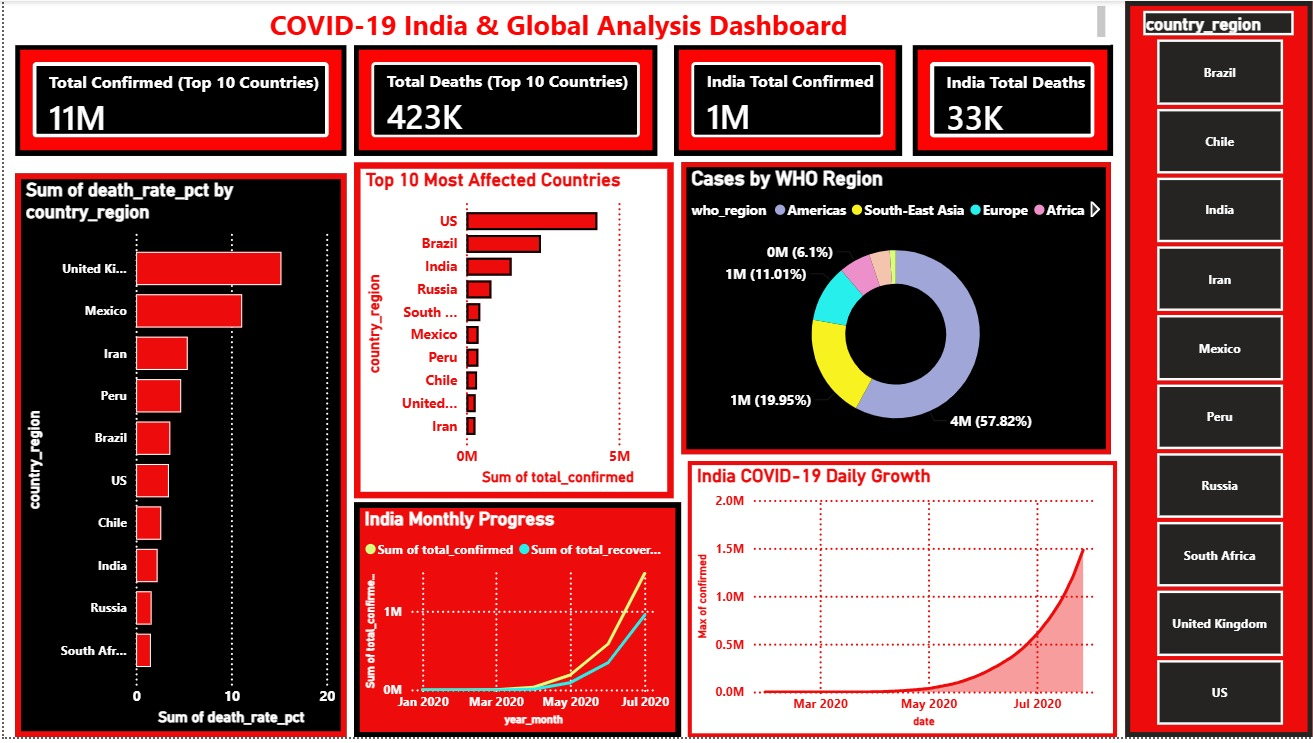

The dashboard page shown, as its layout file describes it:
{"tool":"powerbi","page":{"name":"Page 1","canvas":[1280,720],"ordinal":0},"visuals":[{"type":"cardVisual","fields":{"Data":["Sum(top_countries.total_confirmed)"]},"box":[11.4,42.9,324.3,108.6],"z":0},{"type":"cardVisual","fields":{"Data":["Sum(top_countries.total_deaths)"]},"box":[342.9,42.9,297.1,108.6],"z":1000},{"type":"cardVisual","fields":{"Data":["Max(india_daily.confirmed)"]},"box":[655.7,42.9,222.9,108.6],"z":2000},{"type":"cardVisual","fields":{"Data":["Max(india_daily.deaths)"]},"box":[888.6,42.9,195.7,108.6],"z":3000},{"type":"clusteredBarChart","title":"Top 10 Most Affected Countries","fields":{"Category":["top_countries.country_region"],"Y":["Sum(top_countries.total_confirmed)"]},"box":[342.9,157.1,312.9,328.6],"z":4000},{"type":"donutChart","title":"Cases by WHO Region","fields":{"Category":["who_regions.who_region"],"Y":["Sum(who_regions.total_confirmed)"]},"box":[662.9,157.1,420,285.7],"z":5000},{"type":"clusteredBarChart","fields":{"Y":["Sum(top_countries.death_rate_pct)"],"Category":["top_countries.country_region"]},"box":[11.4,168.6,324.3,551.4],"z":6000},{"type":"slicer","fields":{"Values":["top_countries.country_region"]},"box":[1097.1,0,182.9,720],"z":7000},{"type":"areaChart","title":"India COVID-19 Daily Growth","fields":{"Category":["india_daily.date"],"Y":["Max(india_daily.confirmed)"]},"box":[668.6,450,420,270],"z":8000},{"type":"lineChart","title":"India Monthly Progress","fields":{"Y":["Sum(india_monthly.total_confirmed)","Sum(india_monthly.total_recovered)"],"Category":["india_monthly.year_month"]},"box":[342.9,490,320,230],"z":9000},{"type":"textbox","box":[11.4,0,1071.4,42.9],"z":10000}]}

Visuals, with their boxes in screenshot pixels (x1, y1, x2, y2), scaled from the page's 1280x720 canvas onto the 1313x743 screenshot:
cardVisual - Sum(top_countries.total_confirmed): x1=12, y1=44, x2=344, y2=156
cardVisual - Sum(top_countries.total_deaths): x1=352, y1=44, x2=656, y2=156
cardVisual - Max(india_daily.confirmed): x1=673, y1=44, x2=901, y2=156
cardVisual - Max(india_daily.deaths): x1=912, y1=44, x2=1112, y2=156
"Top 10 Most Affected Countries" clusteredBarChart: x1=352, y1=162, x2=673, y2=501
"Cases by WHO Region" donutChart: x1=680, y1=162, x2=1111, y2=457
clusteredBarChart - Sum(top_countries.death_rate_pct) x top_countries.country_region: x1=12, y1=174, x2=344, y2=742
slicer - top_countries.country_region: x1=1125, y1=0, x2=1312, y2=742
"India COVID-19 Daily Growth" areaChart: x1=686, y1=464, x2=1117, y2=742
"India Monthly Progress" lineChart: x1=352, y1=506, x2=680, y2=742
textbox: x1=12, y1=0, x2=1111, y2=44
